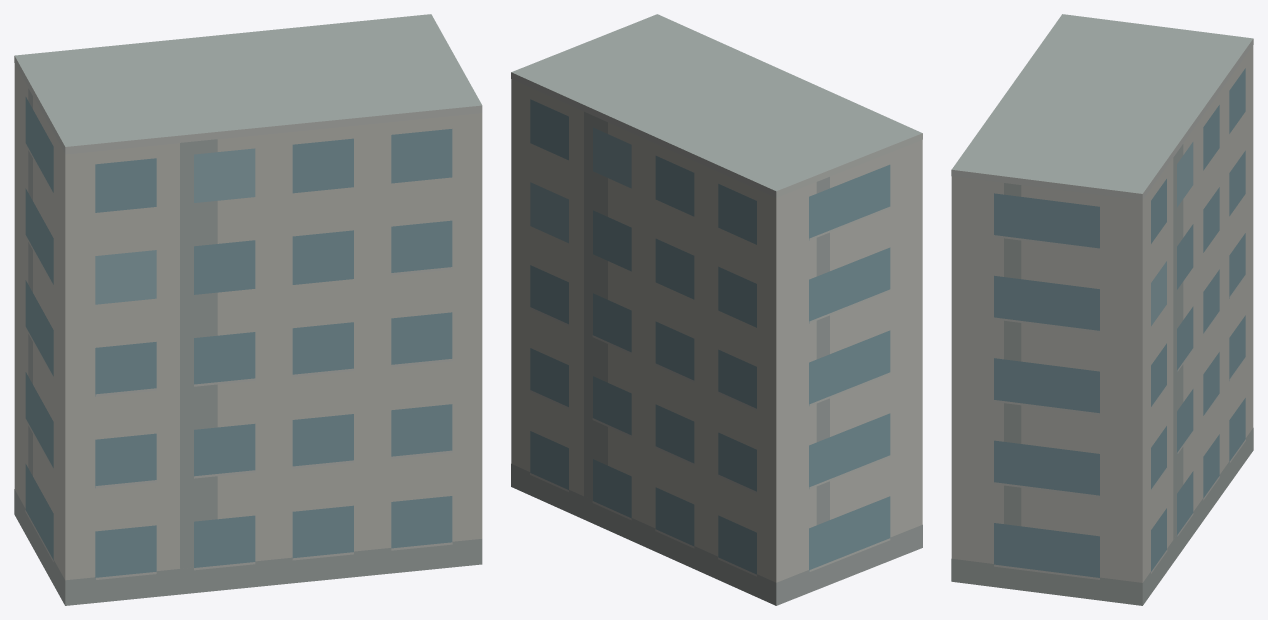
Rendered from residential-fd5da0c3-886c-456c-bc39-6a7292b62150.glb.
The picture shows the model from 3 angles, left to right: view 1: azimuth 30°, elevation 25°; view 2: azimuth 150°, elevation 25°; view 3: azimuth 270°, elevation 25°; orthographic projection. The views are drawn at different scales.
Visible parts, largest first — view 1: residential-fd5da0c3-886c-456c-bc39-6a7292b62150.tmp; view 2: residential-fd5da0c3-886c-456c-bc39-6a7292b62150.tmp; view 3: residential-fd5da0c3-886c-456c-bc39-6a7292b62150.tmp.
Part boxes in pixels (x1,y1,x2,y2): residential-fd5da0c3-886c-456c-bc39-6a7292b62150.tmp: (14, 14, 482, 605); residential-fd5da0c3-886c-456c-bc39-6a7292b62150.tmp: (511, 14, 922, 605); residential-fd5da0c3-886c-456c-bc39-6a7292b62150.tmp: (951, 14, 1253, 605).
Size of the model in its own units: 14.3 by 15.25 by 10.14.
